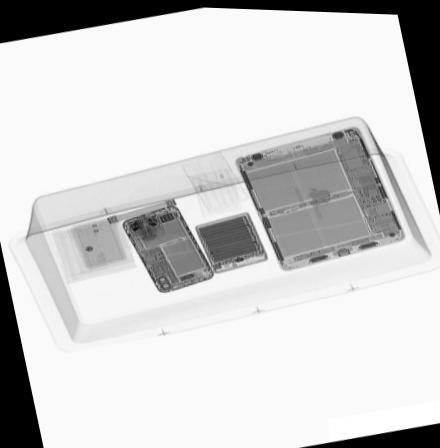Powerbank: (190, 207, 268, 273)
